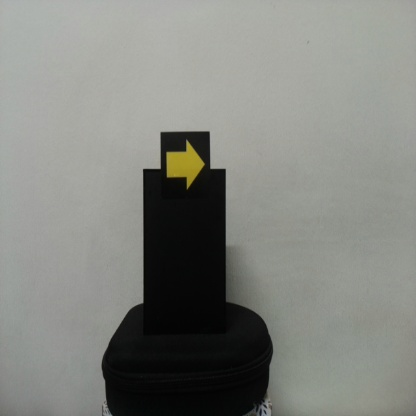id_3: (160, 132, 211, 202)
